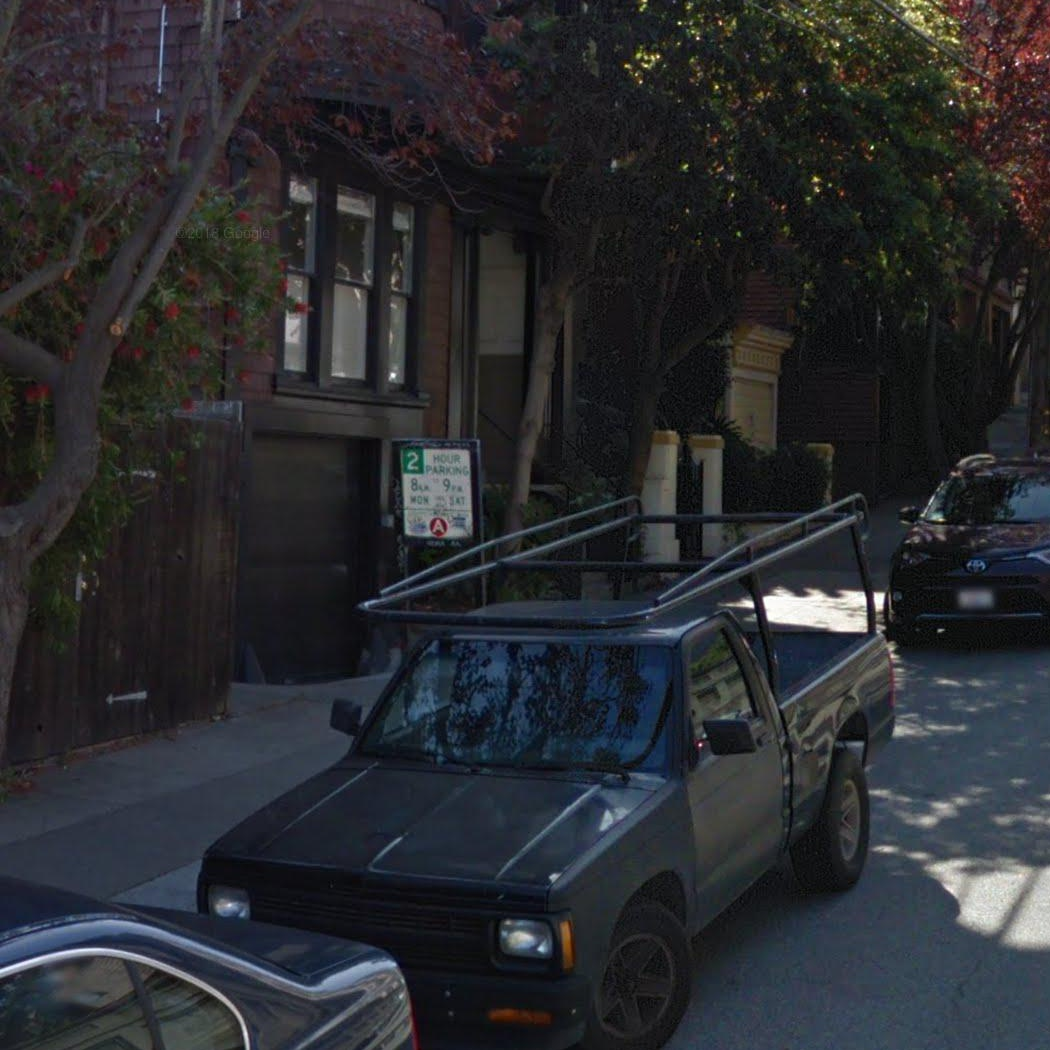2 Hour Parking: (399, 441, 477, 542)
